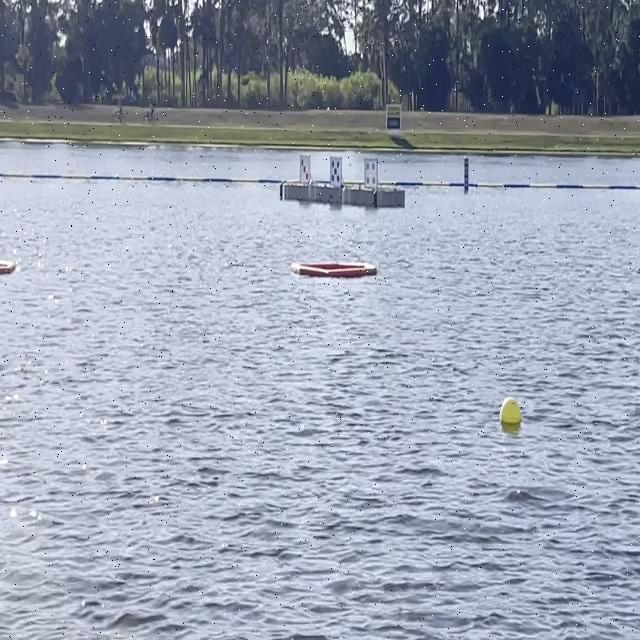buoy: (500, 396, 520, 424)
